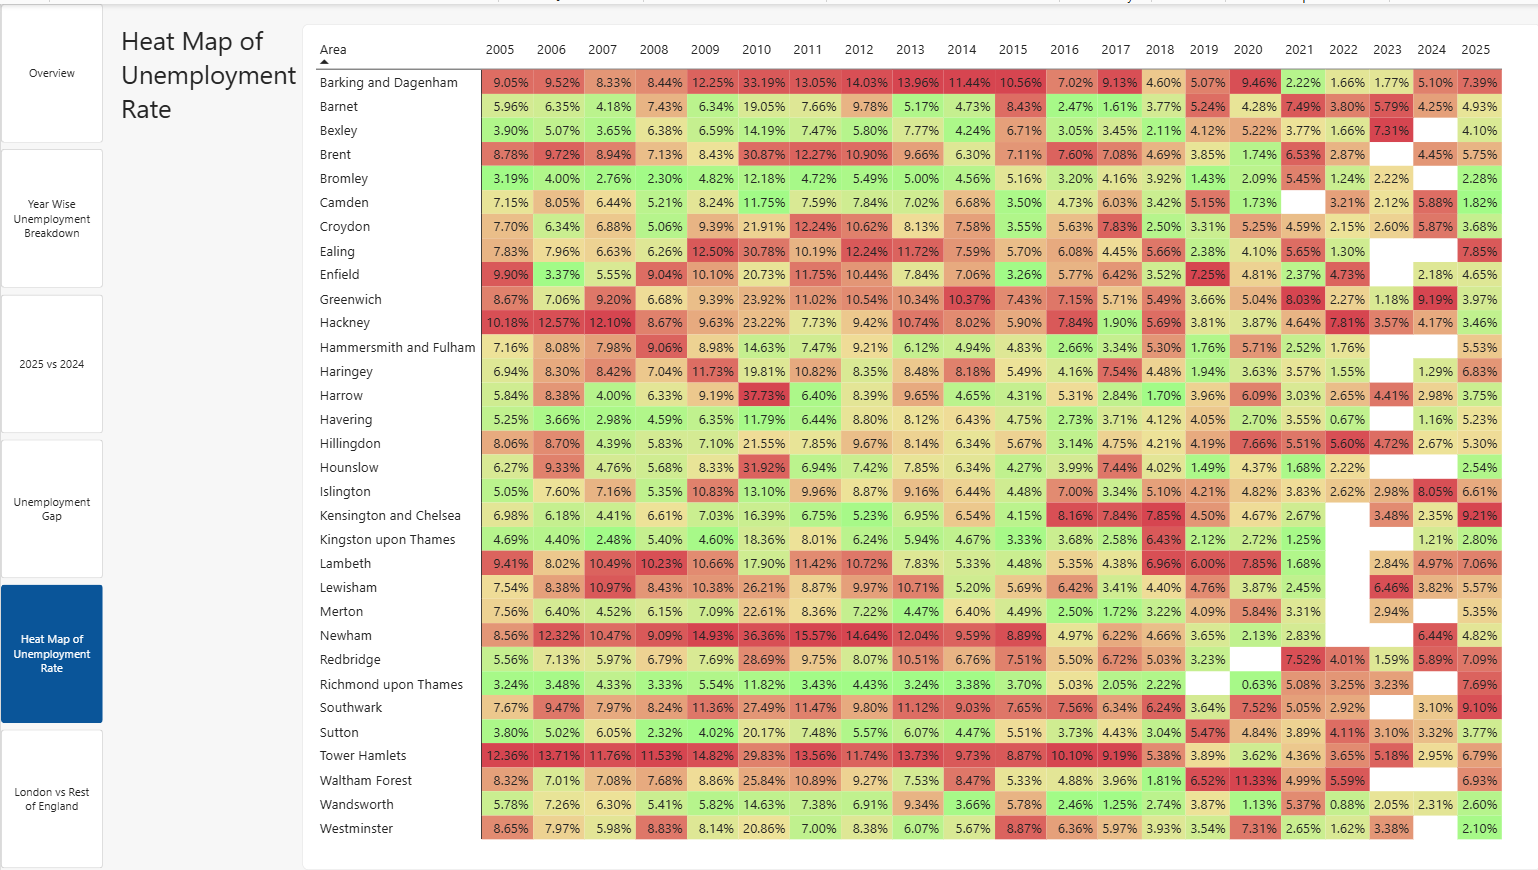

The page's visual inventory and layout, read from the dashboard file:
{"tool":"powerbi","page":{"name":"Heat Map of Unemployment Rate","canvas":[1920,1080],"ordinal":4},"visuals":[{"type":"pivotTable","fields":{"Columns":["Date Table.Year"],"Rows":["All_data.Area"],"Values":["All_data.Unemployment Rate"]},"box":[375.7,24.9,1544.9,1055.4],"z":0},{"type":"textbox","box":[150.3,22.6,224.4,142],"z":1000},{"type":"pageNavigator","box":[0,0,127.6,1080.6],"z":2000}]}

Visuals, with their boxes on the page's 1920x1080 design canvas (x1, y1, x2, y2). These are canvas units, not pixel positions in the 1538x870 screenshot, which may show the page scaled, cropped or inside an application window:
pivotTable - Date Table.Year x All_data.Area: <region>376, 25, 1921, 1080</region>
textbox: <region>150, 23, 375, 165</region>
pageNavigator: <region>0, 0, 128, 1081</region>
